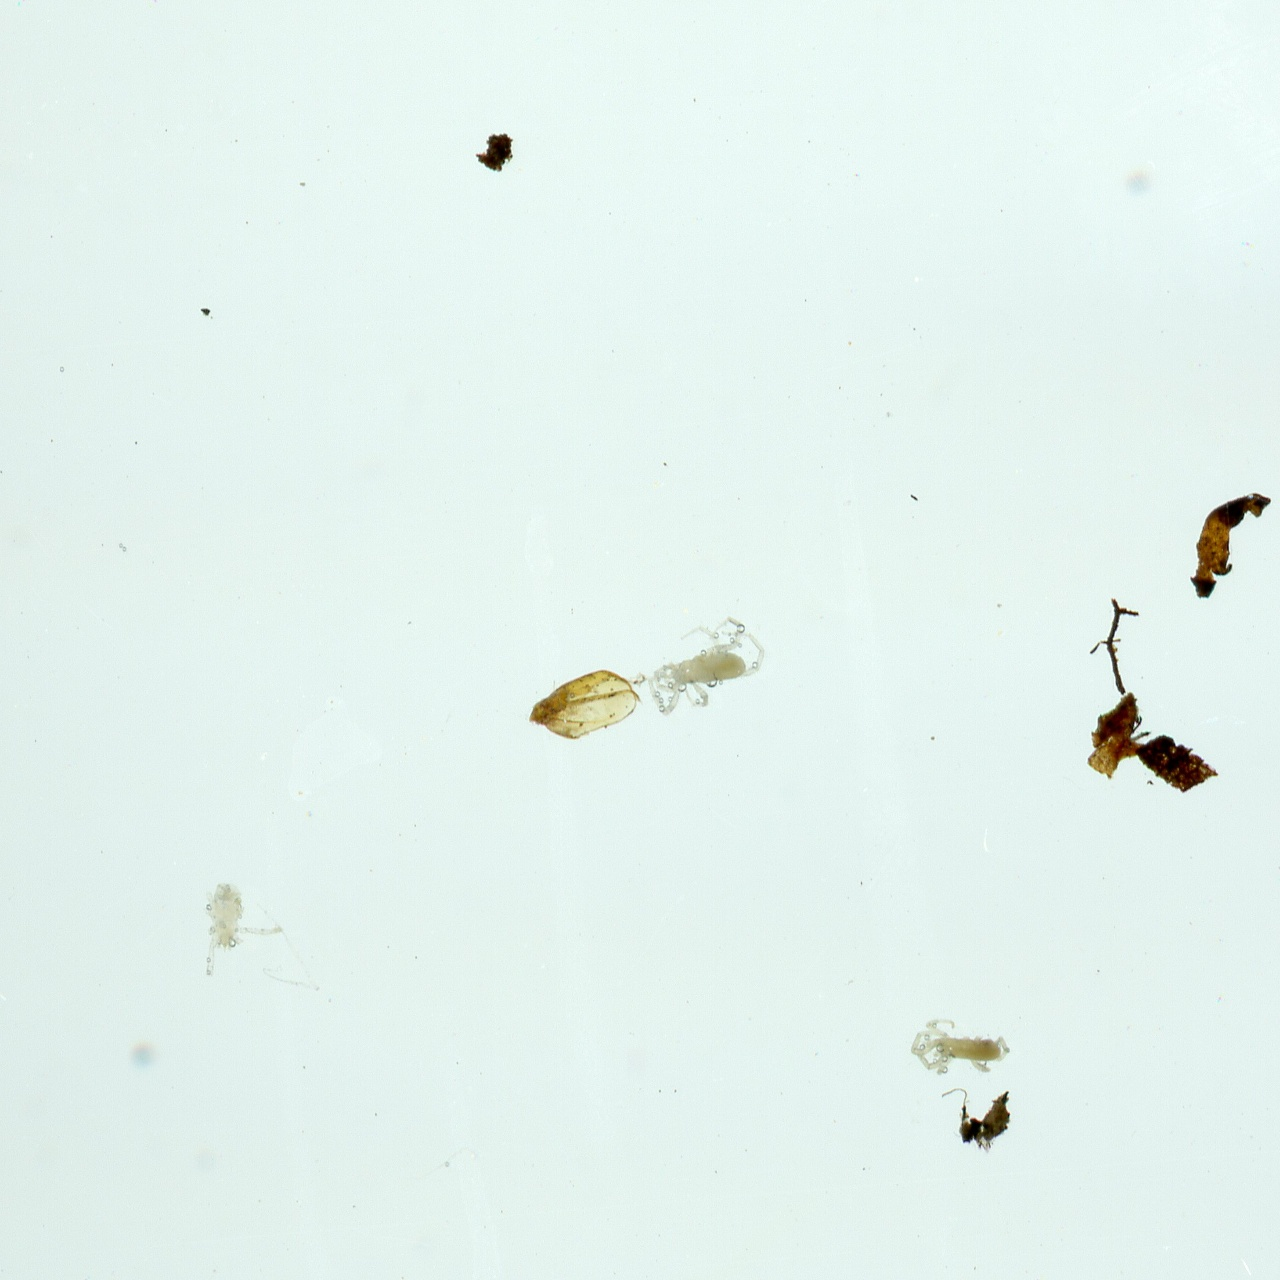arthropod: (630, 602, 796, 741), (193, 878, 292, 982), (908, 1015, 1012, 1077)
